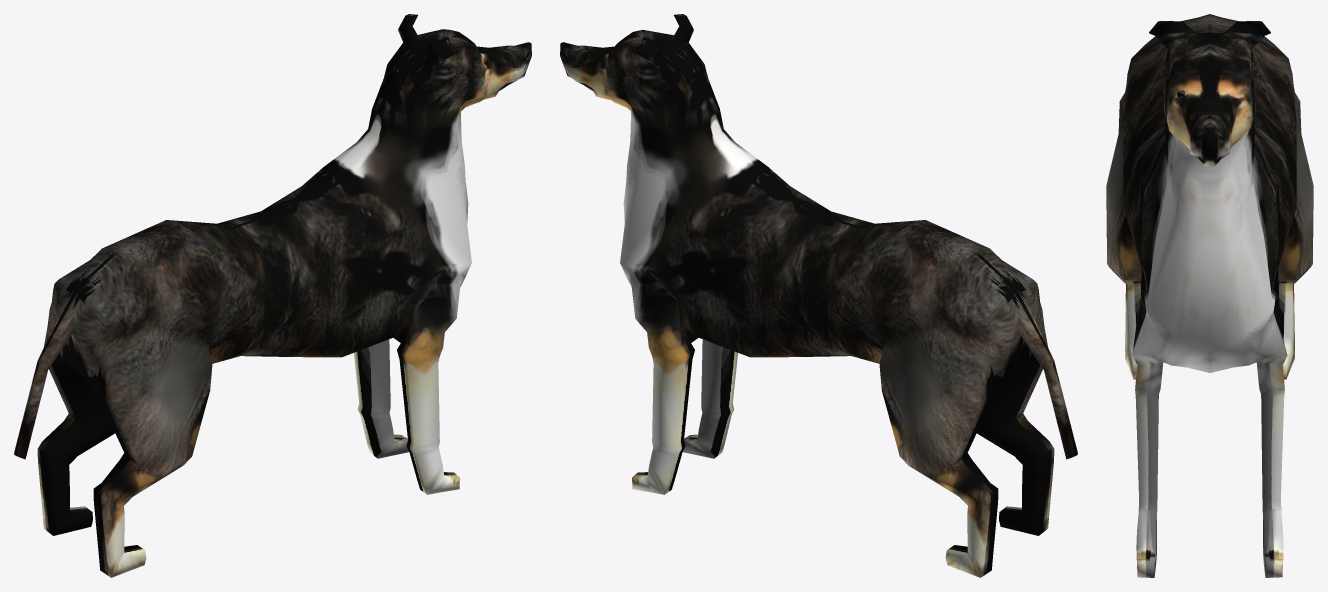
File: pet_type_1.glb
The picture shows the model from 3 angles, left to right: view 1: azimuth 30°, elevation 25°; view 2: azimuth 150°, elevation 25°; view 3: azimuth 270°, elevation 25°; orthographic projection. The views are drawn at different scales.
Visible parts, largest first — view 1: dog; view 2: dog; view 3: dog.
Part boxes in pixels (<box>): dog: <box>14,14,531,577</box>; dog: <box>560,14,1077,577</box>; dog: <box>1106,14,1313,577</box>.
Size of the model in its own units: 0.7427 by 0.6067 by 0.2049.
Materials: 3 (1 with a texture image).
